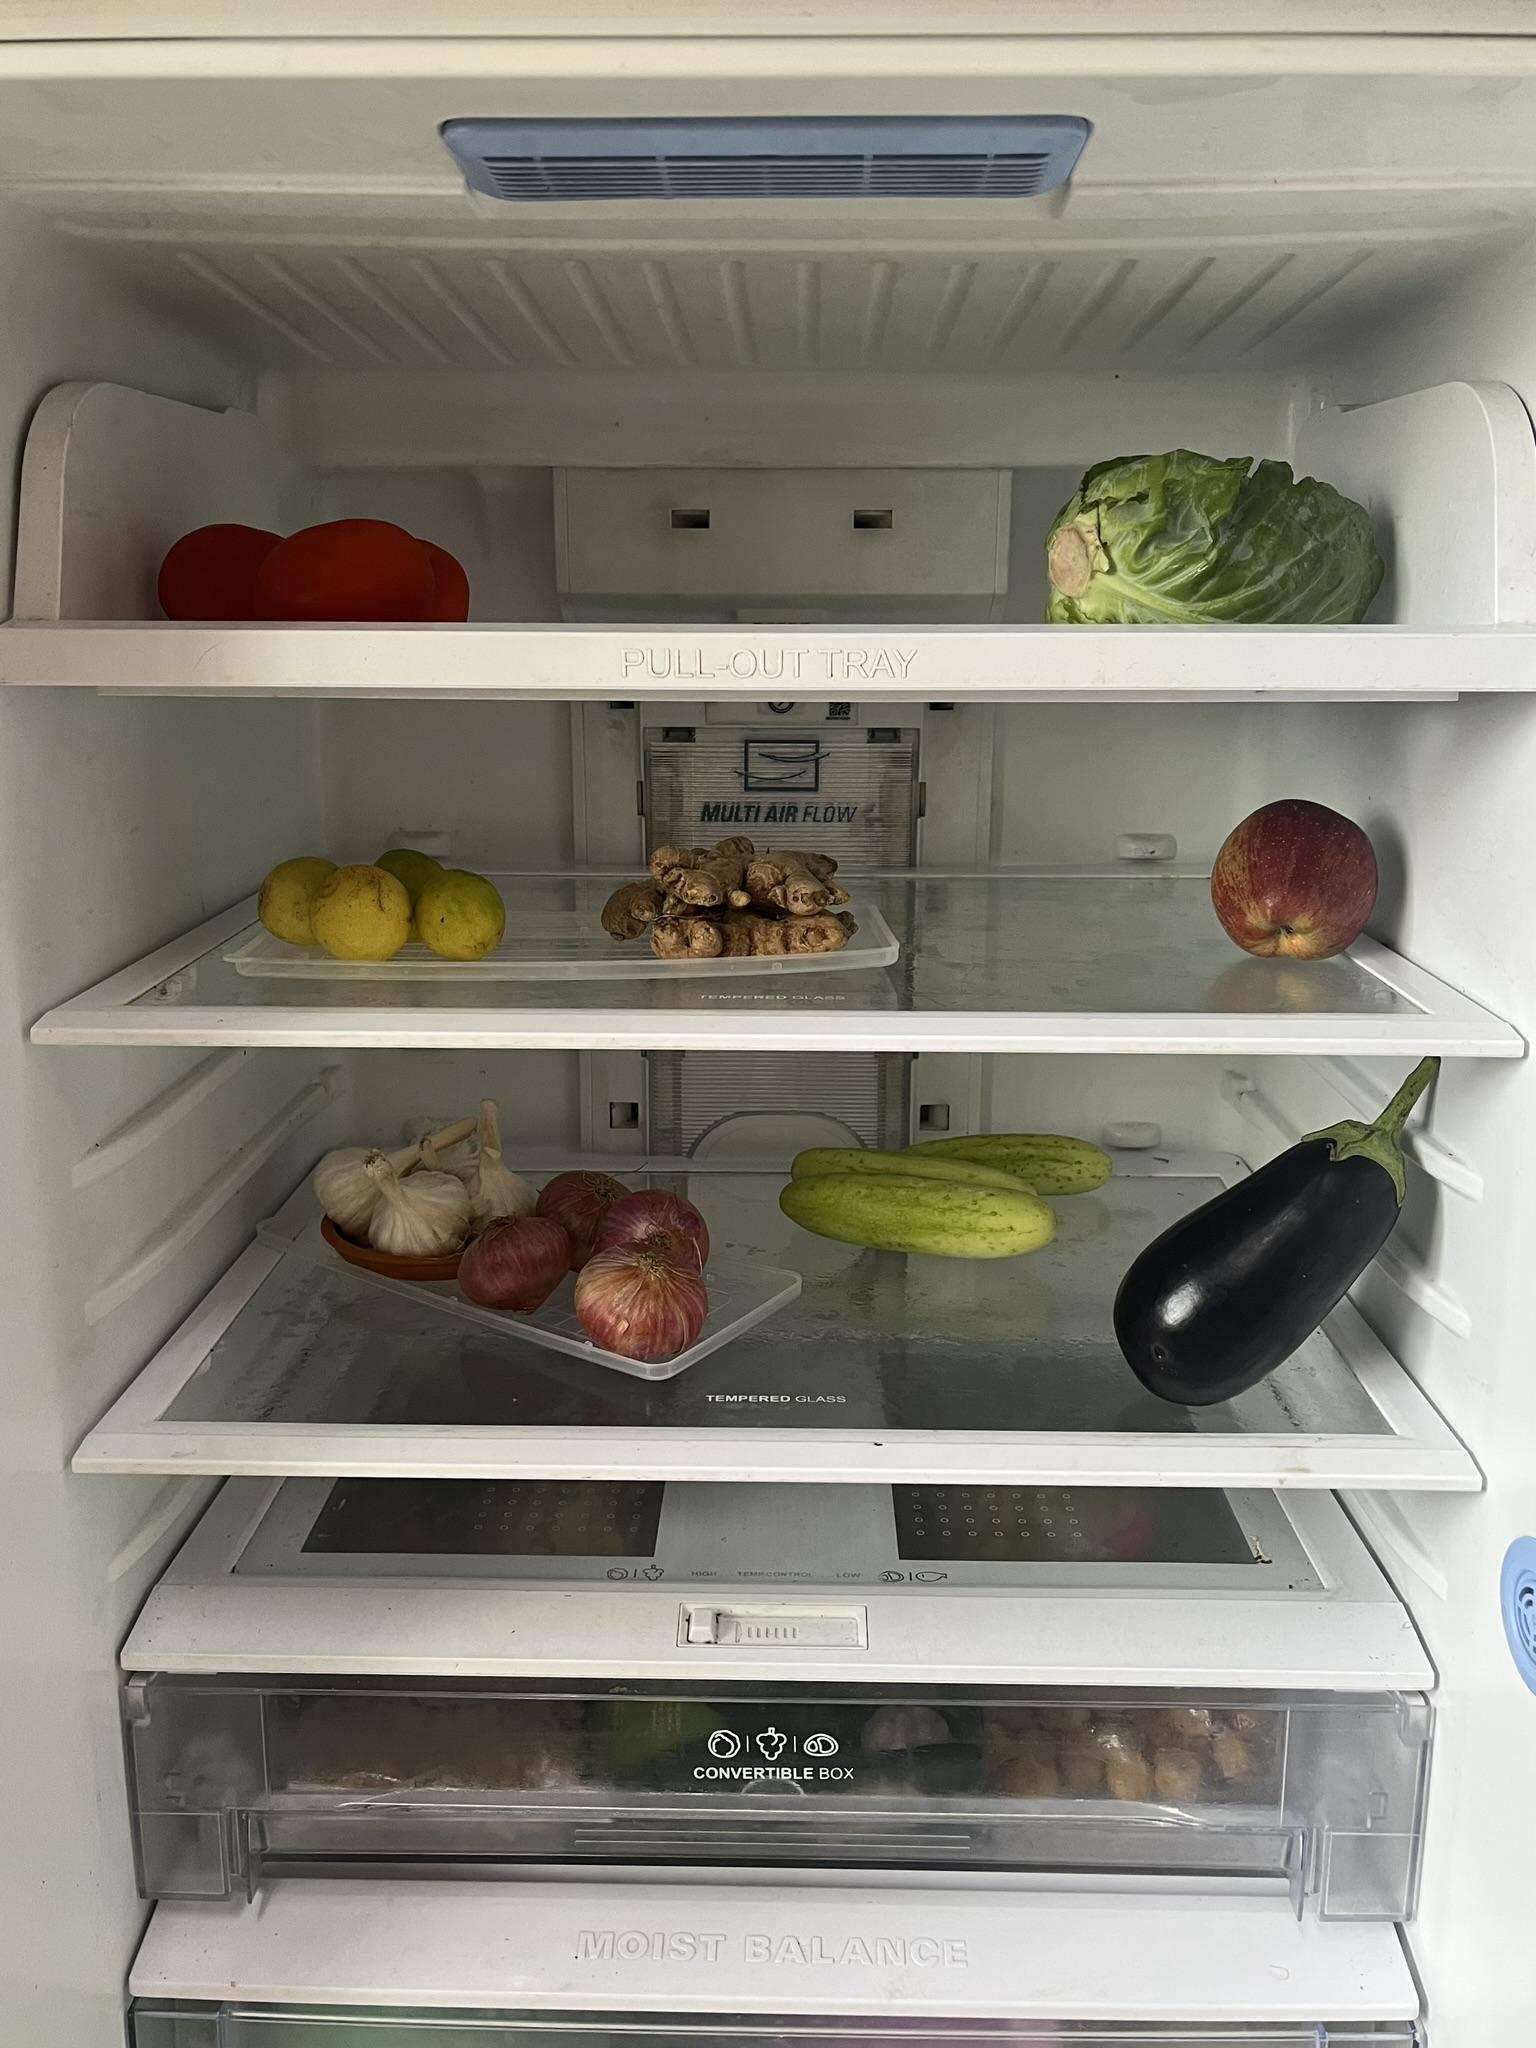apple: (1208, 797, 1384, 963)
bringal: (1113, 1059, 1455, 1408)
cabbage: (1036, 440, 1394, 624)
cucumber: (783, 1124, 1117, 1256)
garlic: (319, 1105, 545, 1264)
ginger: (602, 832, 862, 958)
lemon: (257, 843, 511, 963)
onion: (466, 1168, 718, 1359)
tomato: (152, 514, 474, 624)
